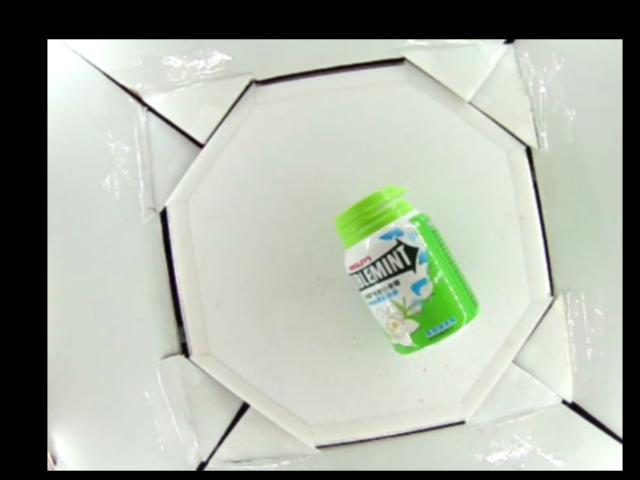Bottle: (335, 184, 478, 357)
